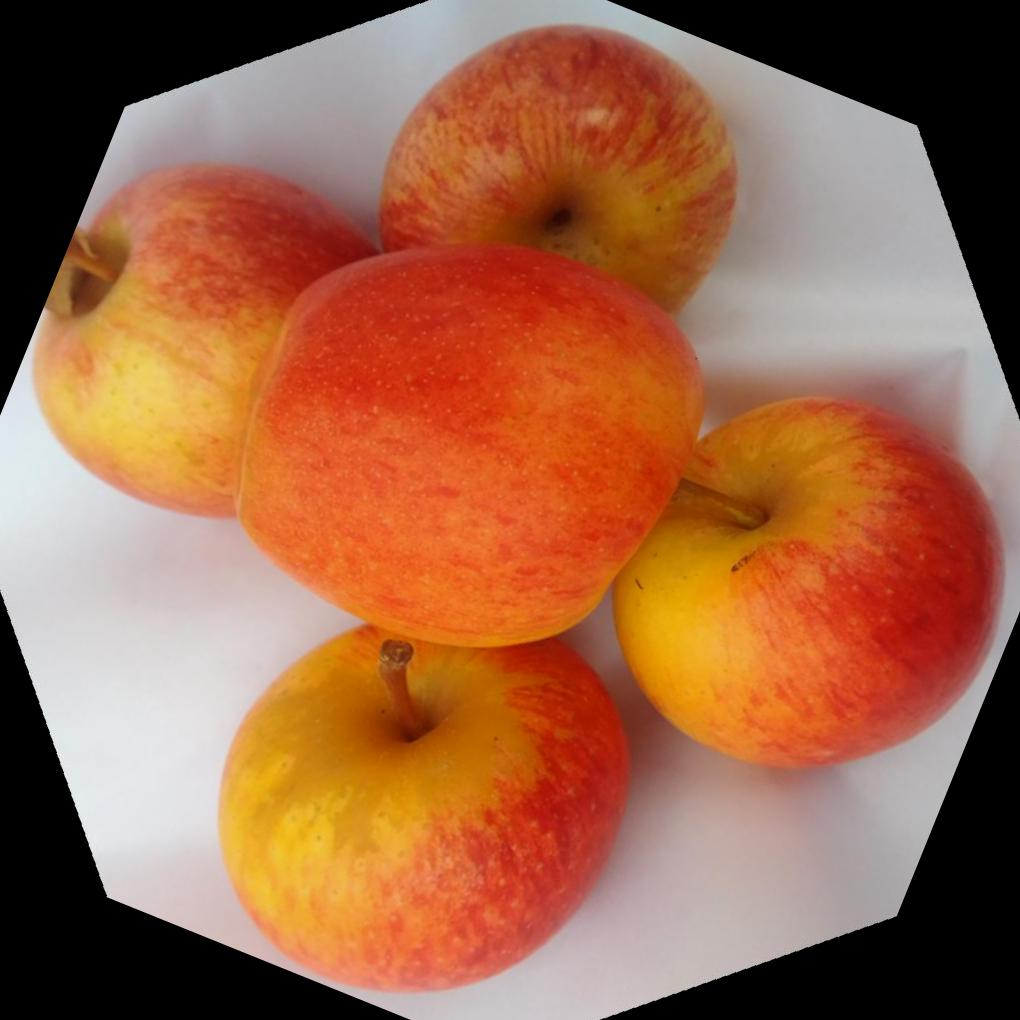FreshGuava: (31, 20, 1003, 990)
